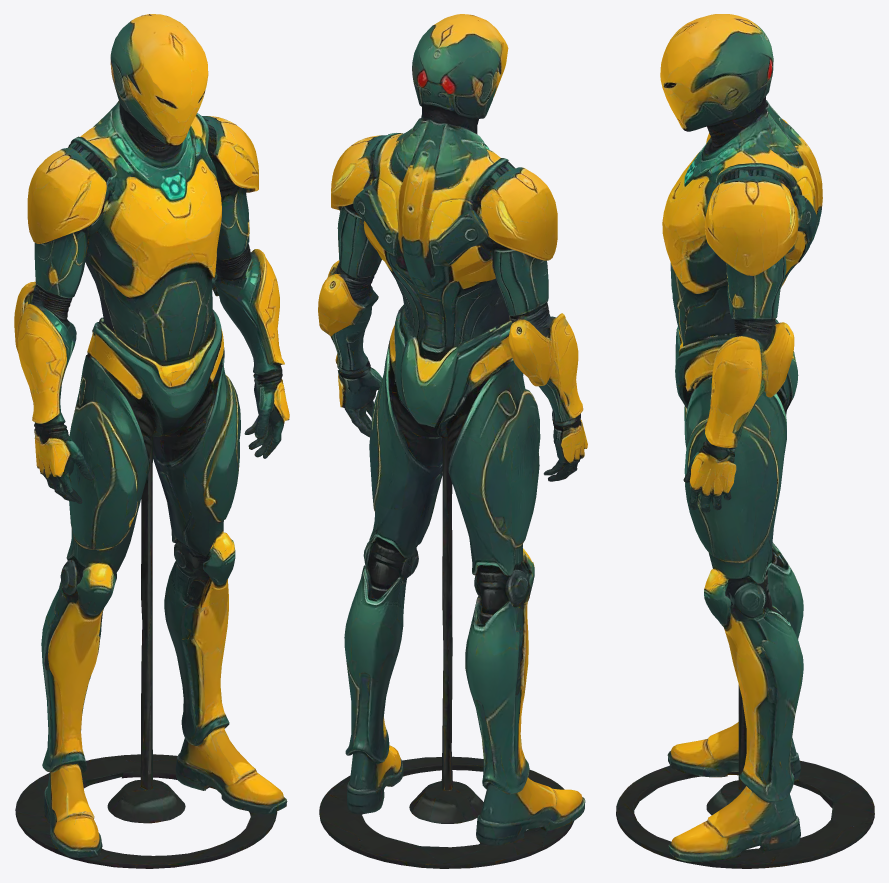
File: fur-armor-stand.glb
3 renders of one model, left to right at view 1: azimuth 30°, elevation 25°; view 2: azimuth 150°, elevation 25°; view 3: azimuth 270°, elevation 25°, orthographic. The views are drawn at different scales.
Visible parts, largest first — view 1: Mesh_0; view 2: Mesh_0; view 3: Mesh_0.
Boxes of the visible parts, x1=… form: Mesh_0: x1=14, y1=14, x2=289, y2=868; Mesh_0: x1=318, y1=14, x2=587, y2=868; Mesh_0: x1=616, y1=14, x2=874, y2=868.
Bounding box in the file's own units: 0.6156 × 1.9 × 0.5581.
Materials: 1 (1 with a texture image).
